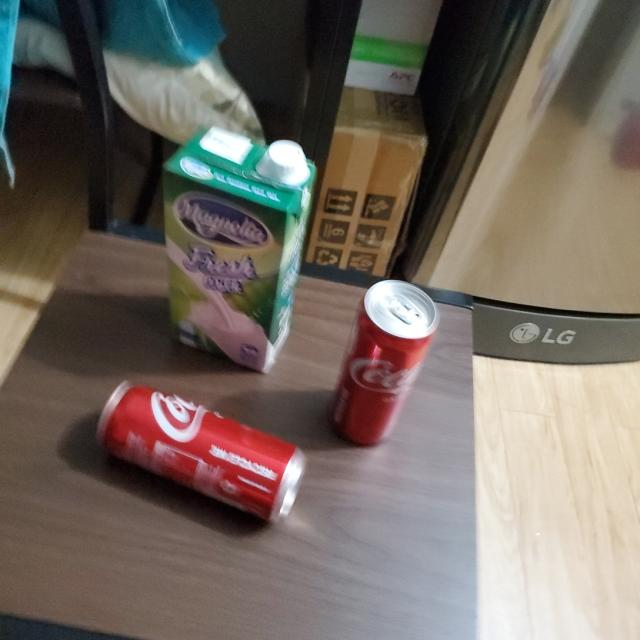coke: (93, 382, 306, 516), (332, 279, 441, 447)
milk: (159, 125, 323, 374)
